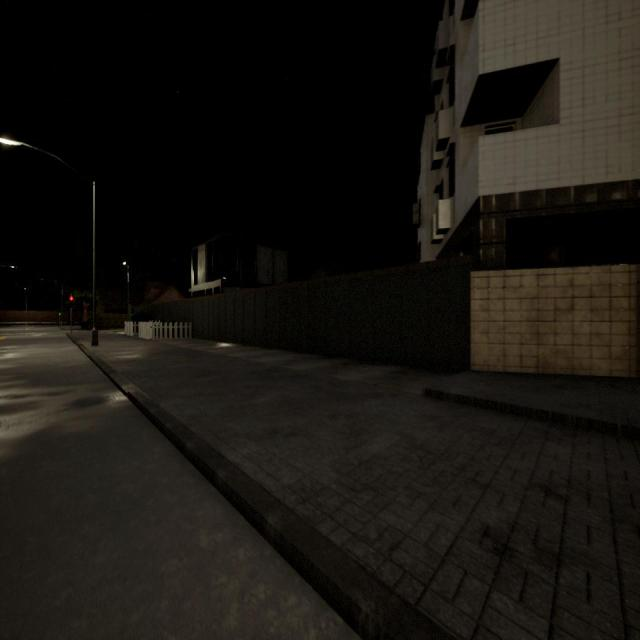traffic_light: (69, 296, 73, 308), (59, 310, 61, 316)
